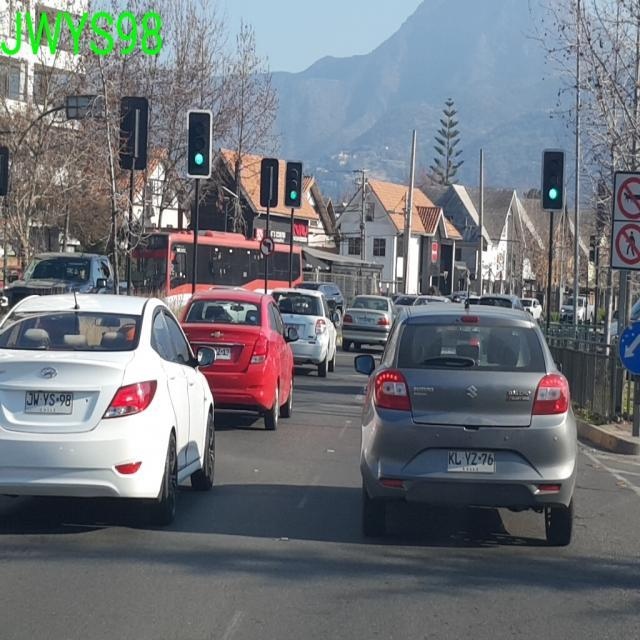Bus: (126, 227, 305, 300)
Car: (352, 302, 578, 546), (0, 289, 217, 524)
Traffic-light: (117, 95, 148, 170), (186, 109, 211, 178), (541, 149, 564, 210), (259, 157, 278, 207), (284, 161, 302, 207)
